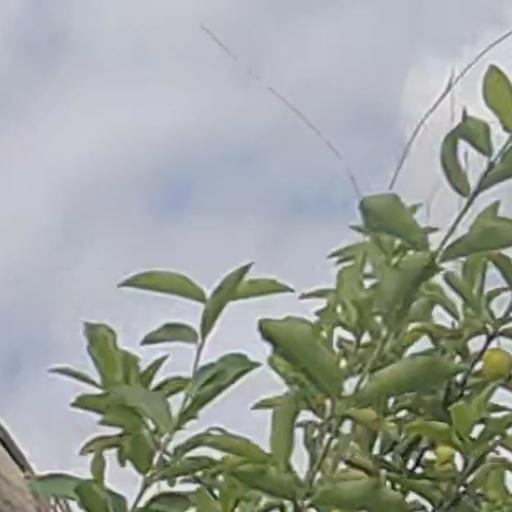acerola_verde: (484, 349, 511, 381)
